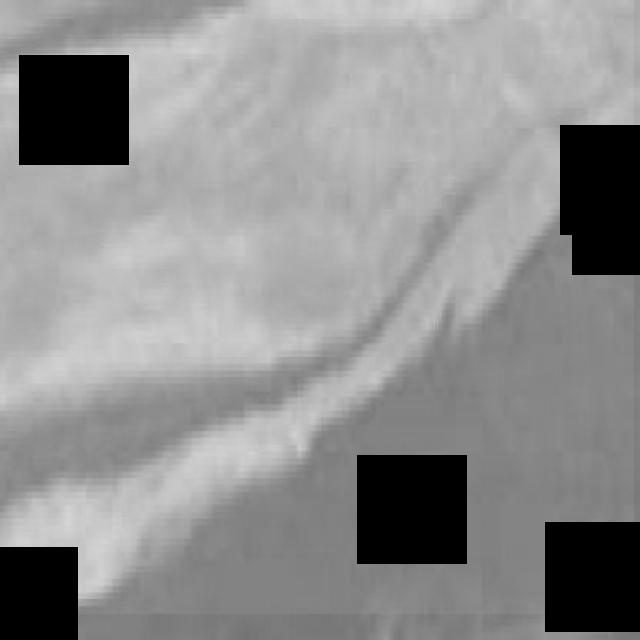oil spill: (0, 0, 634, 614)
